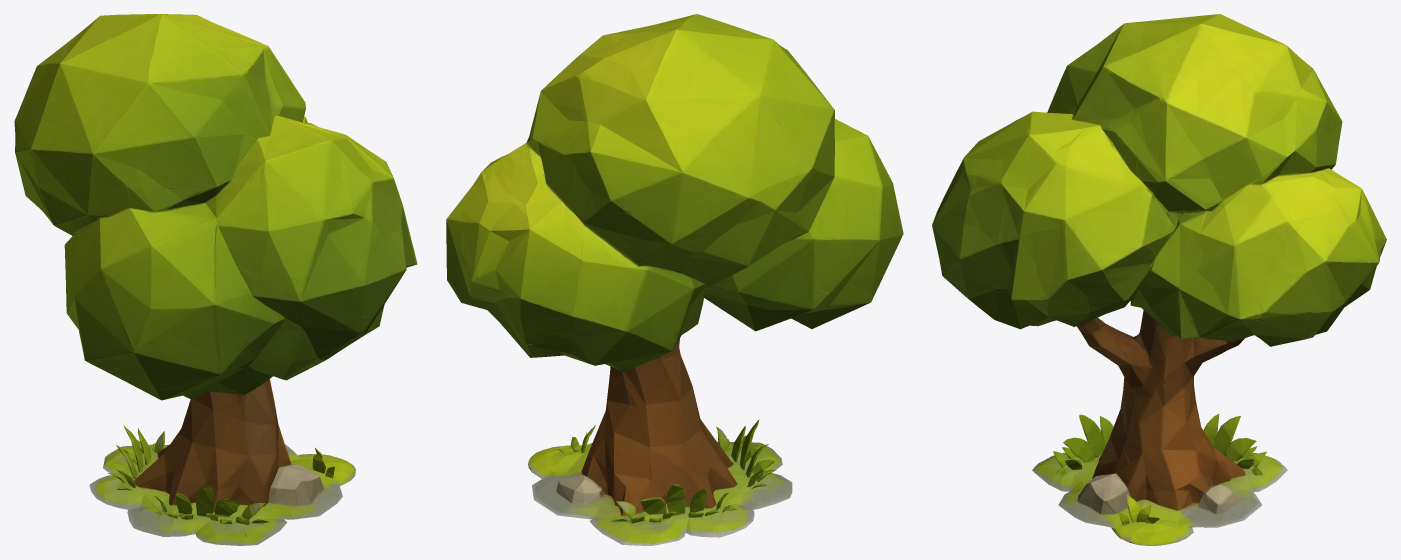
Rendered from KeepSakeOldTreeV2.glb.
The picture shows the model from 3 angles, left to right: view 1: azimuth 30°, elevation 25°; view 2: azimuth 150°, elevation 25°; view 3: azimuth 270°, elevation 25°; orthographic projection. The views are drawn at different scales.
Parts seen in each view (by area): view 1: tripo_node_2985ca3f-99c8-4631-9a04-c6a625e0ec2e; view 2: tripo_node_2985ca3f-99c8-4631-9a04-c6a625e0ec2e; view 3: tripo_node_2985ca3f-99c8-4631-9a04-c6a625e0ec2e.
Boxes of the visible parts, left/top/right/bottom form: tripo_node_2985ca3f-99c8-4631-9a04-c6a625e0ec2e: left=14, top=14, right=417, bottom=545; tripo_node_2985ca3f-99c8-4631-9a04-c6a625e0ec2e: left=446, top=14, right=903, bottom=545; tripo_node_2985ca3f-99c8-4631-9a04-c6a625e0ec2e: left=932, top=14, right=1386, bottom=545.
Size of the model in its own units: 0.7072 by 0.9784 by 0.903.
1 material, 1 textured.
